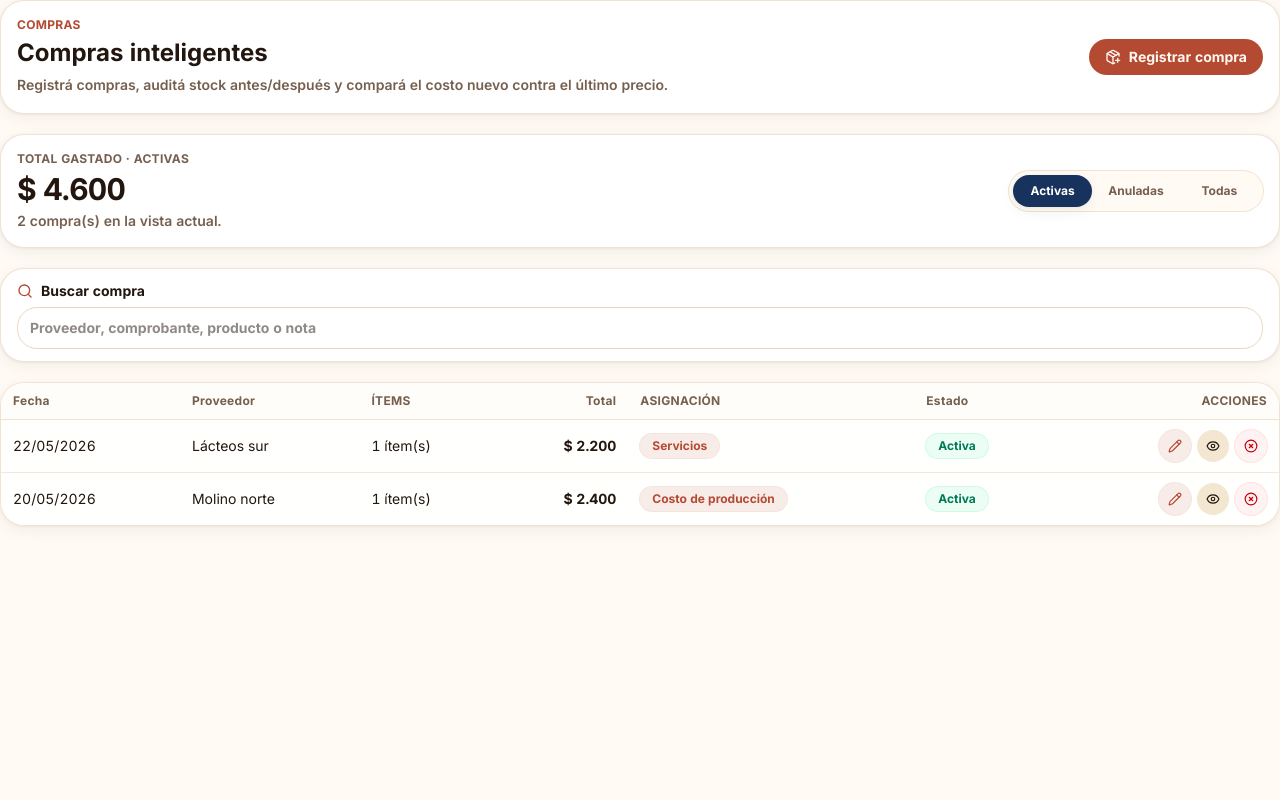
Test: FinancePurchases › keeps the create purchase sheet open and submits an Orders-style purchase payload
Click the button "Registrar compra" at (1176, 57), box 1089,39 -> 1263,75
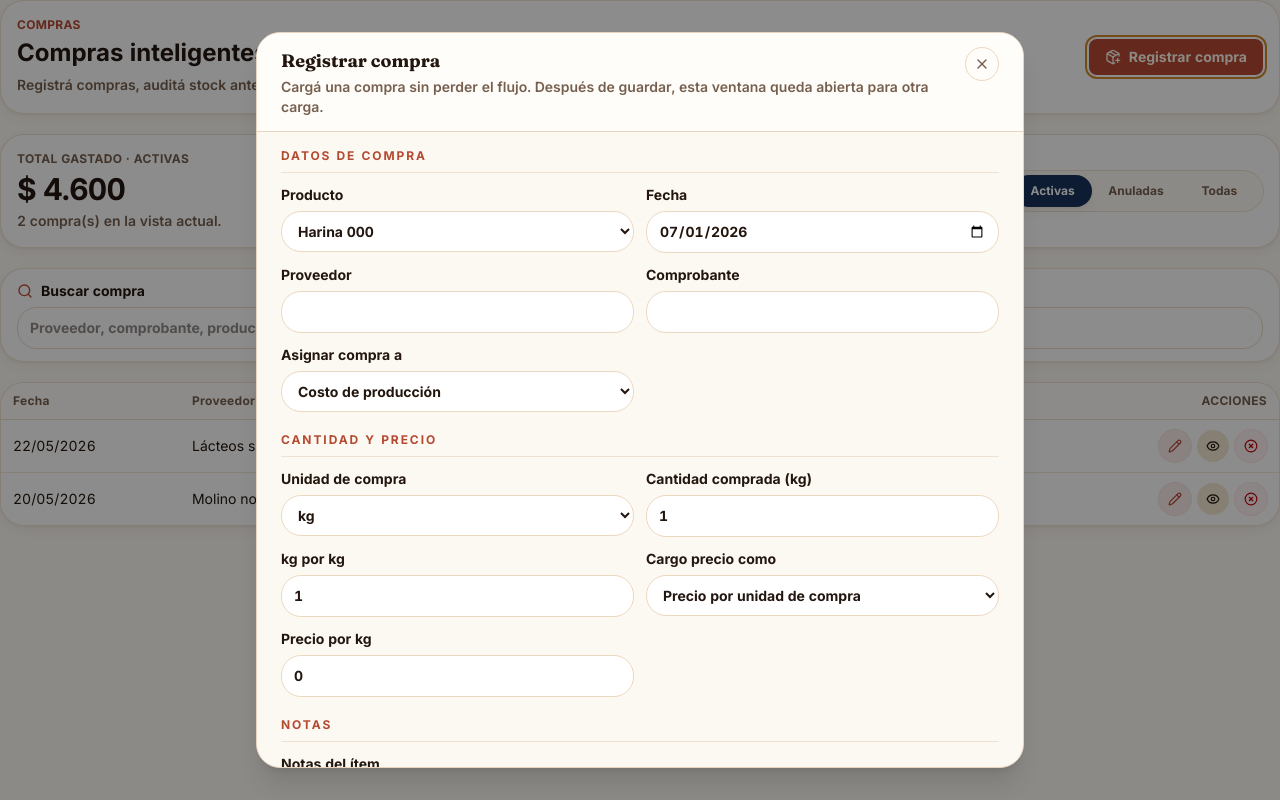
Type "Molino norte" into the field labelled "Proveedor" at (458, 312), box 281,291 -> 634,333
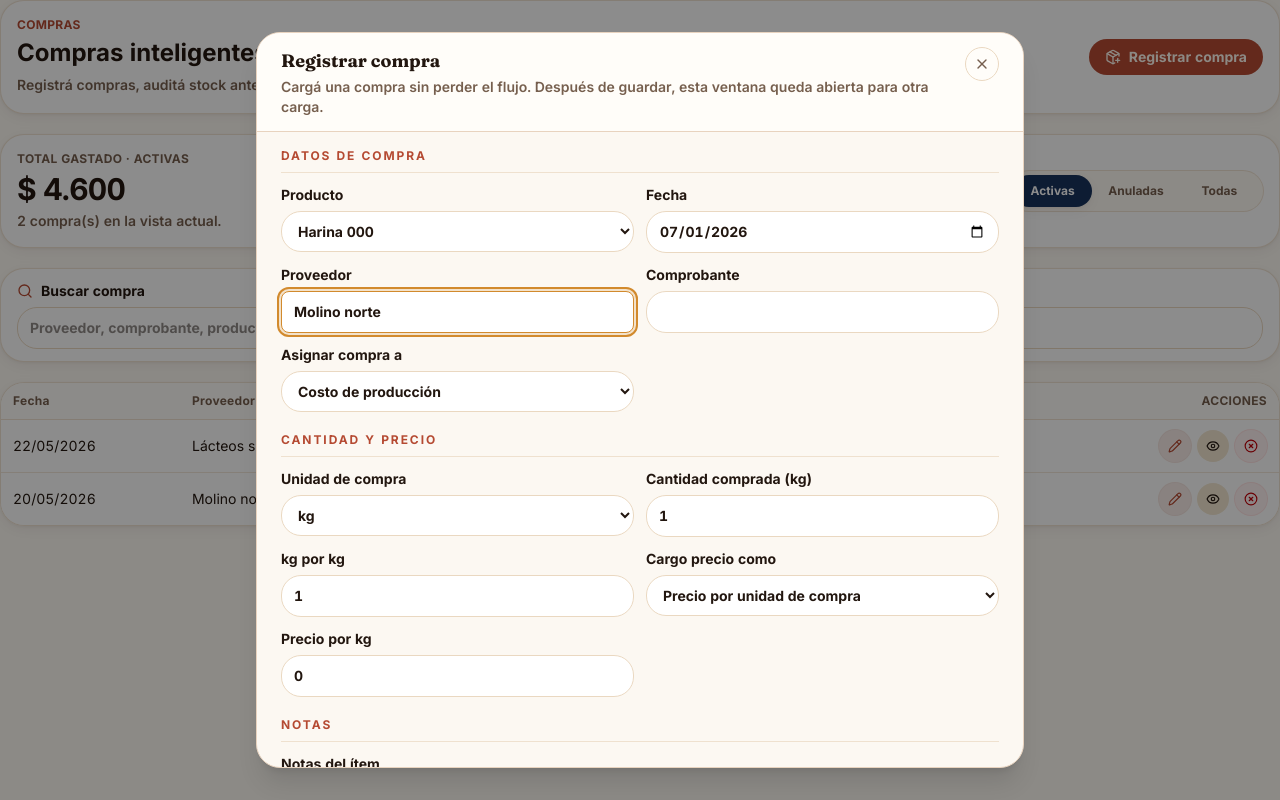
Replace the text in the number field labelled "Cantidad comprada (kg)" with "2.5" at (822, 516), box 646,495 -> 999,537
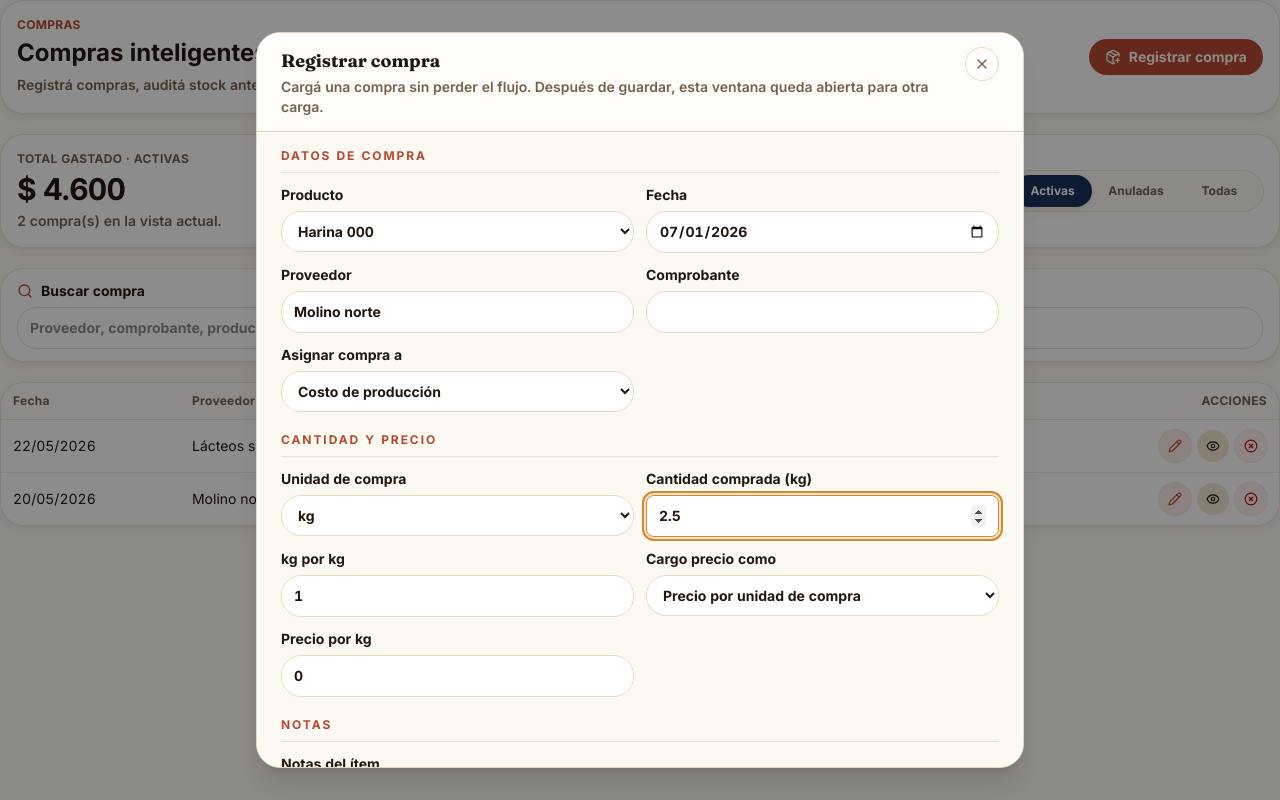
Replace the text in the number field labelled "Precio por kg" with "1350" at (458, 676), box 281,655 -> 634,697
(page scrolled)
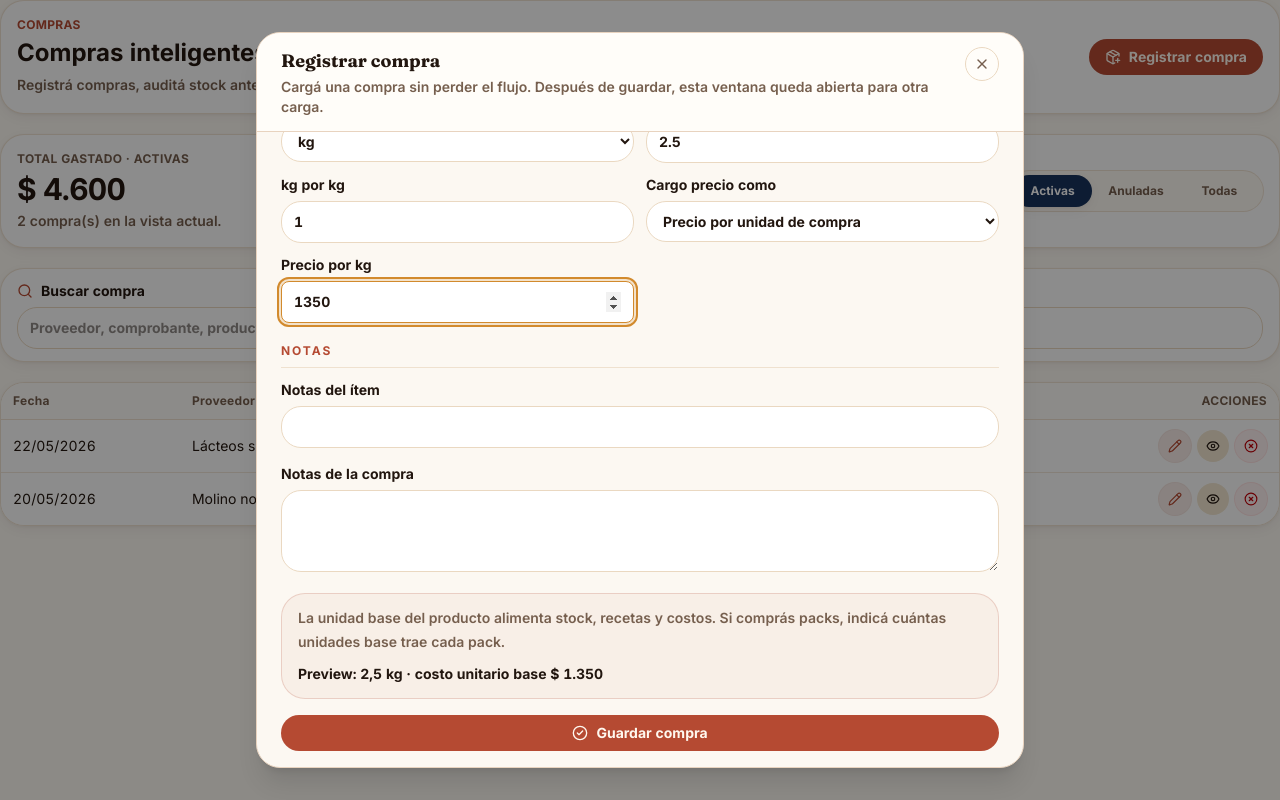
Click the button "Guardar compra" at (640, 733), box 281,715 -> 999,751
(page scrolled)
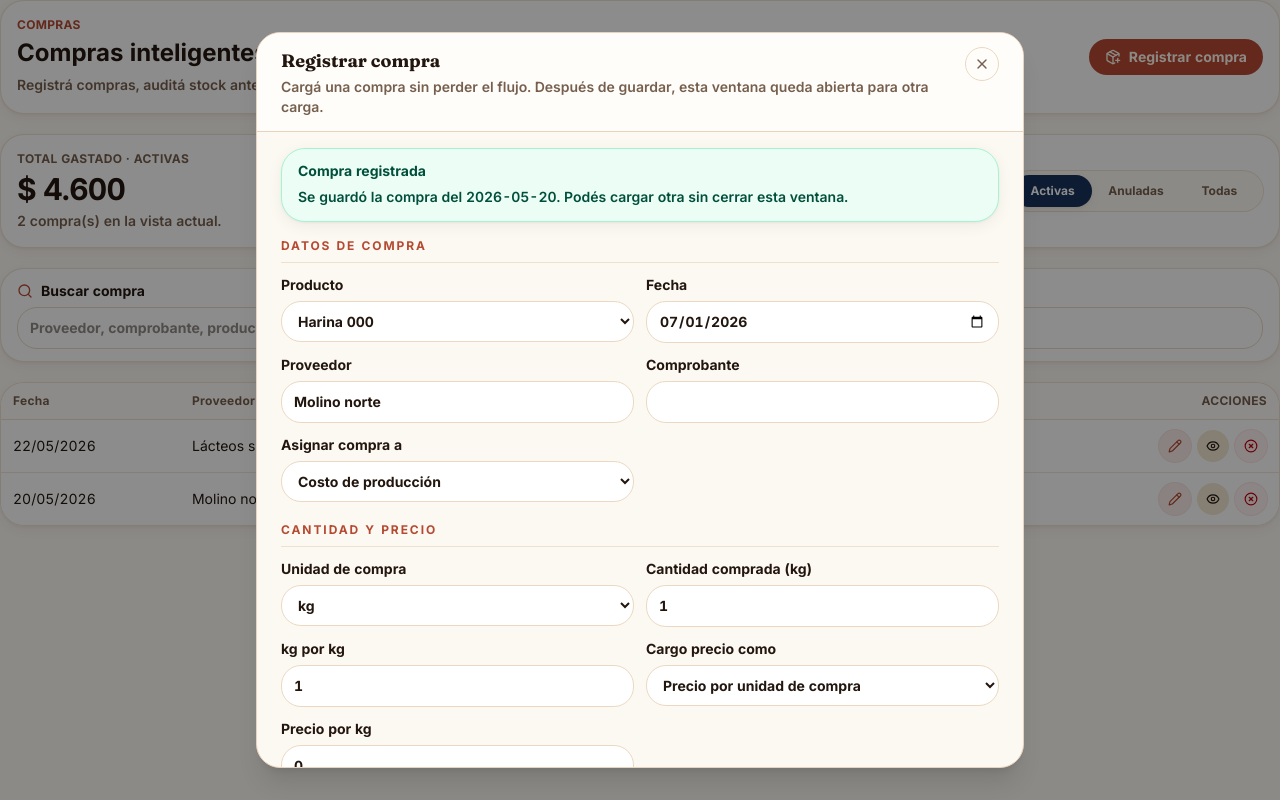
Expected: the dialog "Registrar compra" is shown, 256,32 -> 1024,768
Expected: the text "Compra registrada" is shown, 298,162 -> 426,179
